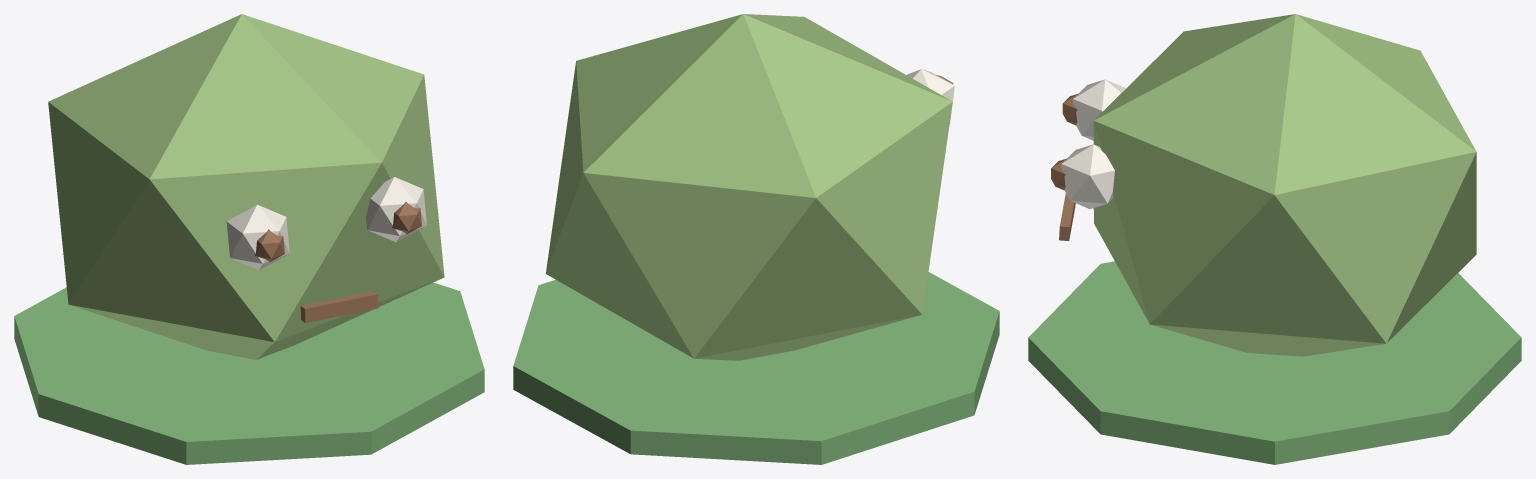
The model's file is npcpose_slime_idle_10.glb.
3 views of the same model, side by side, from view 1: azimuth 30°, elevation 25°; view 2: azimuth 150°, elevation 25°; view 3: azimuth 270°, elevation 25° (orthographic). The views are drawn at different scales.
Visible parts, largest first — view 1: npcpose; view 2: npcpose; view 3: npcpose.
Part boxes in pixels (box(x1,y1,x2,y2)): npcpose: box(14, 14, 484, 464); npcpose: box(513, 14, 999, 464); npcpose: box(1028, 14, 1521, 464).
Size of the model in its own units: 0.96 by 0.7475 by 0.96.
